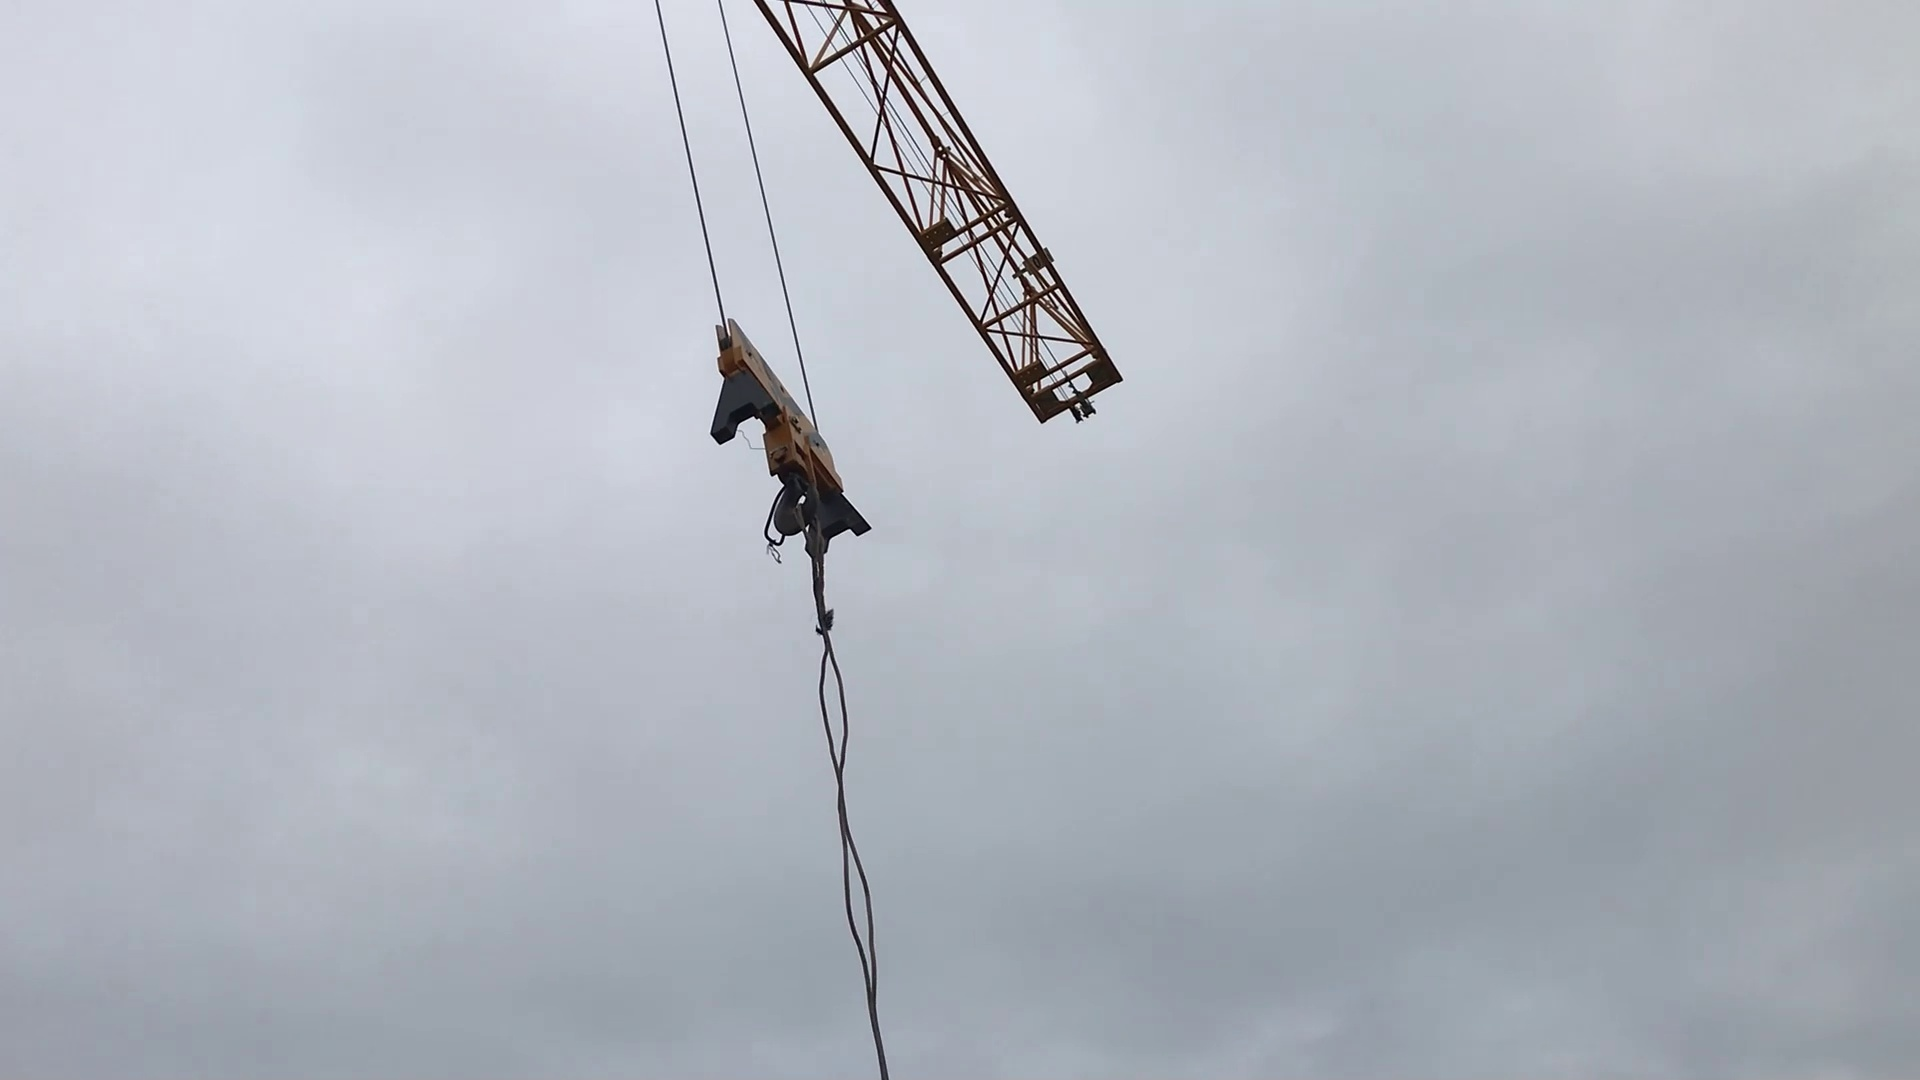hook: (670, 309, 894, 607)
